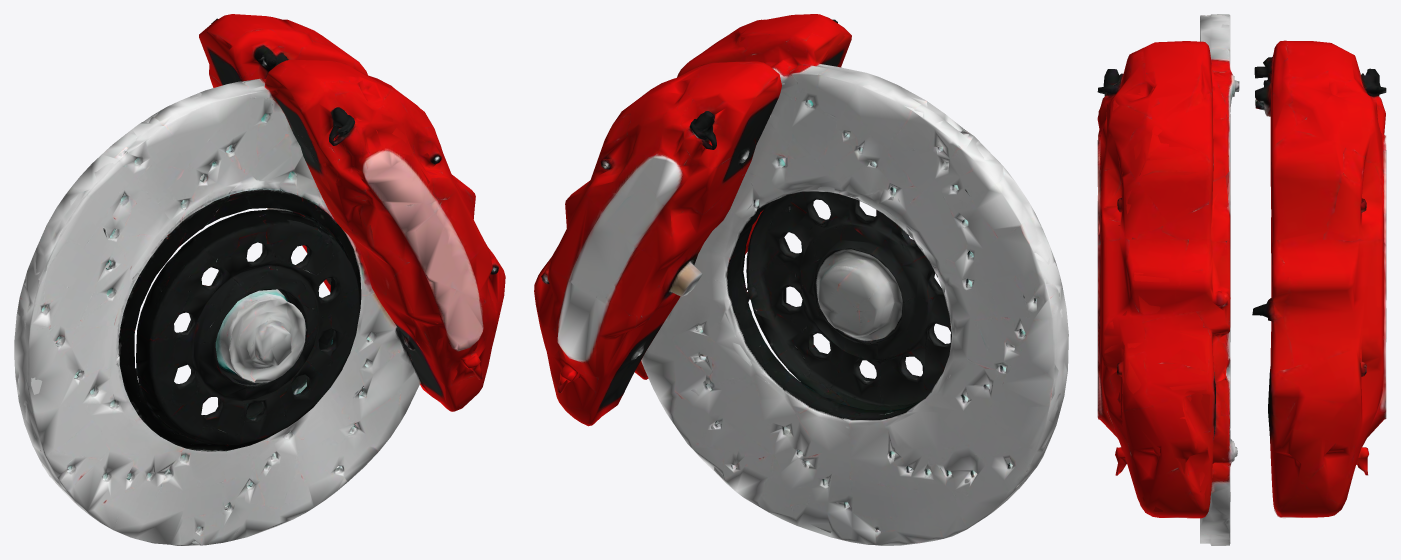
The model's file is rem-lite.glb.
3 renders of one model, left to right at view 1: azimuth 30°, elevation 25°; view 2: azimuth 150°, elevation 25°; view 3: azimuth 270°, elevation 25°, orthographic. The views are drawn at different scales.
Size of the model in its own units: 1.9 by 1.87 by 0.9795.
Materials: 1 (1 with a texture image).
